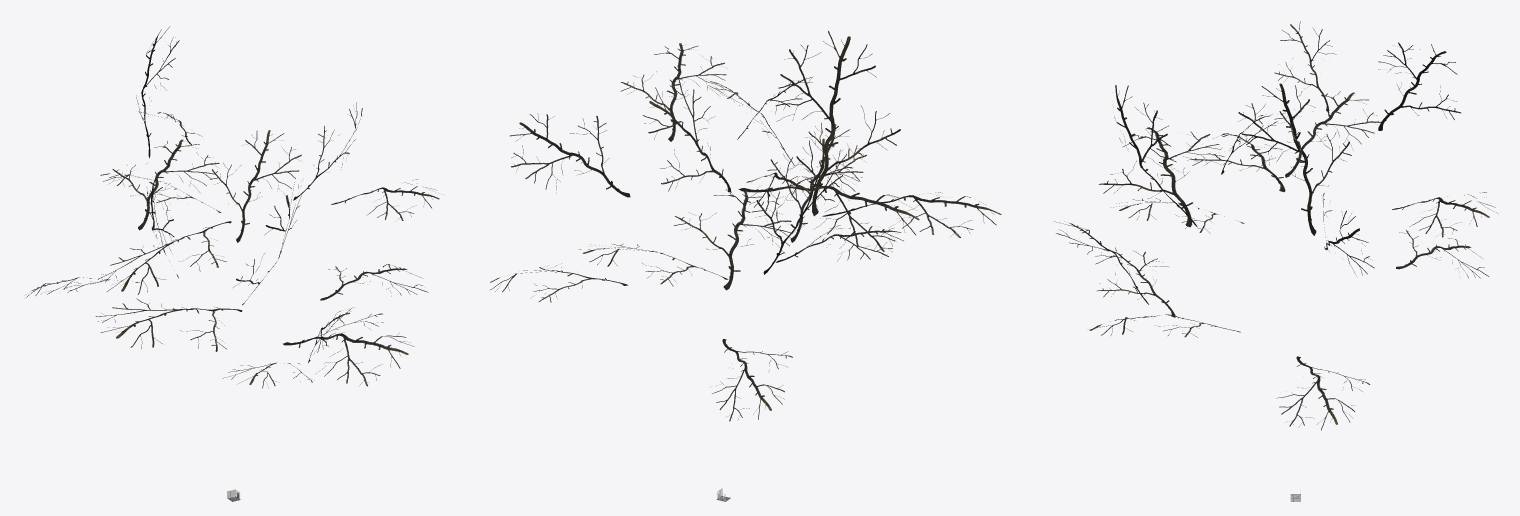
Rendered from bookmagic.glb.
3 renders of one model, left to right at view 1: azimuth 30°, elevation 25°; view 2: azimuth 150°, elevation 25°; view 3: azimuth 270°, elevation 25°, orthographic. The views are drawn at different scales.
Parts seen in each view (by area): view 1: leaves; view 2: leaves; view 3: leaves.
Boxes of the visible parts, left/top/right/bottom form: leaves: left=26, top=26, right=439, bottom=388; leaves: left=490, top=31, right=1001, bottom=421; leaves: left=1054, top=21, right=1498, bottom=430.
Size of the model in its own units: 490 by 487 by 440.
3 materials, 1 textured.
